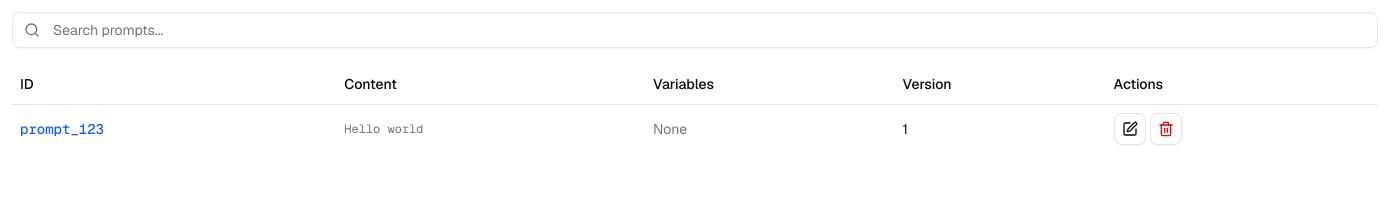
Test: PromptList › Empty State › shows filtered empty message when search has no results
The image size is (1390, 207).
# Search for something that doesn't exist
Type "nonexistent" into the field with placeholder "Search prompts...". click: (695, 30)
box: x1=12 y1=12 x2=1378 y2=48
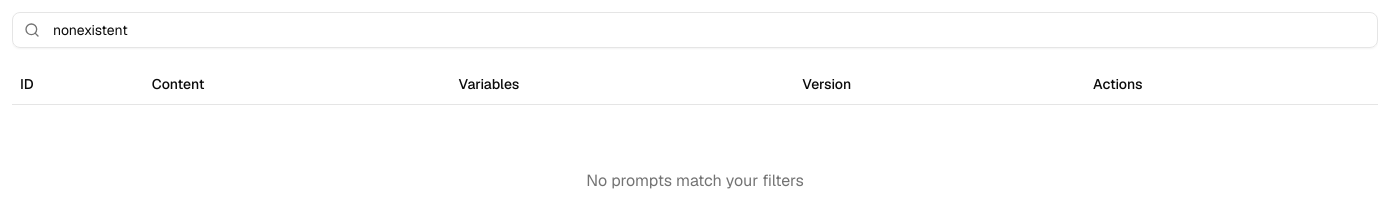
Check: the text "No prompts match your filters" is shown, box x1=586 y1=170 x2=804 y2=190
